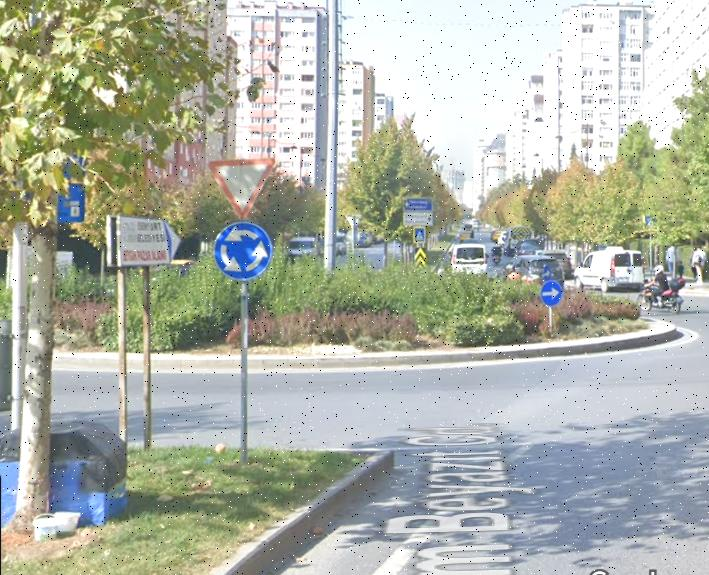crossroads: (213, 227, 276, 277)
turnright: (543, 282, 563, 305), (542, 268, 552, 279)
